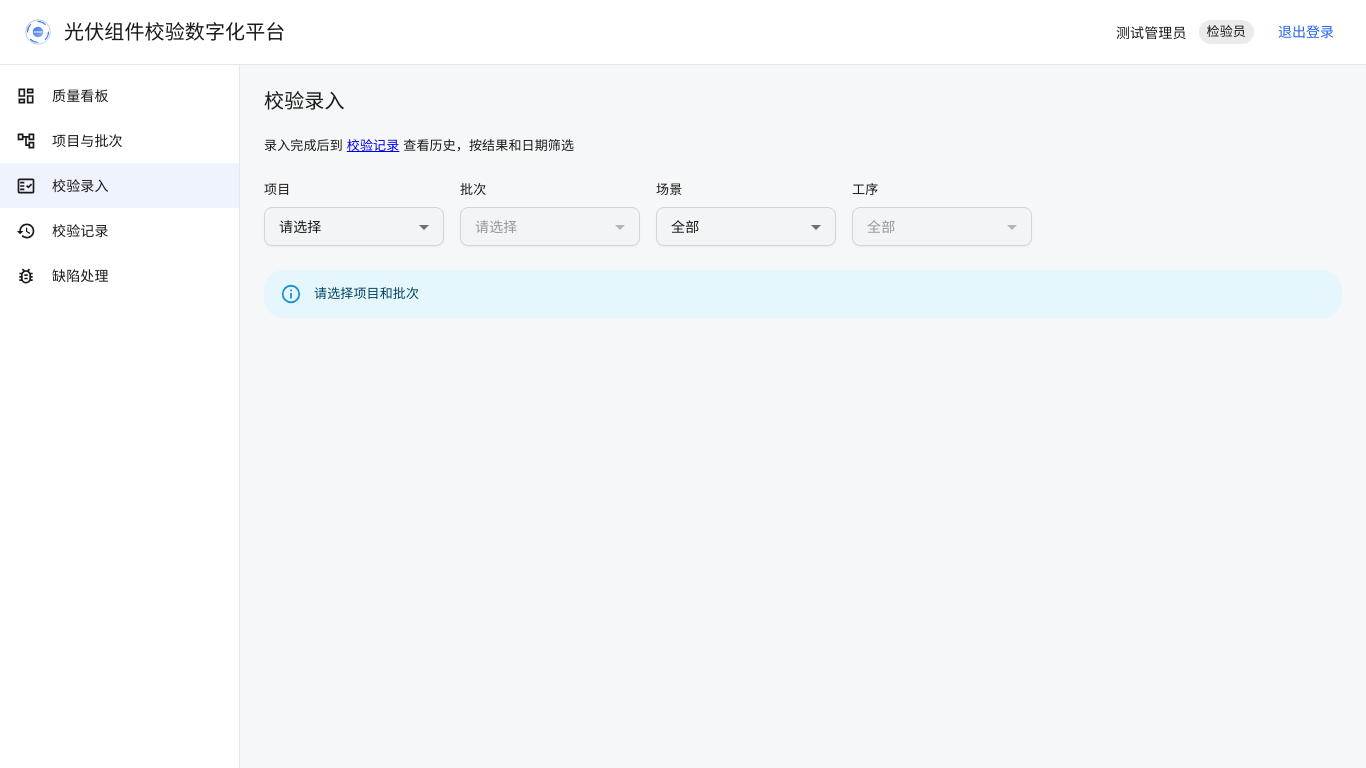
Test: 选择项目与批次后列出待检项与上次实测值
The image size is (1366, 768).
Click the dropdown named "项目" at (300, 226), box [279,217,321,236]
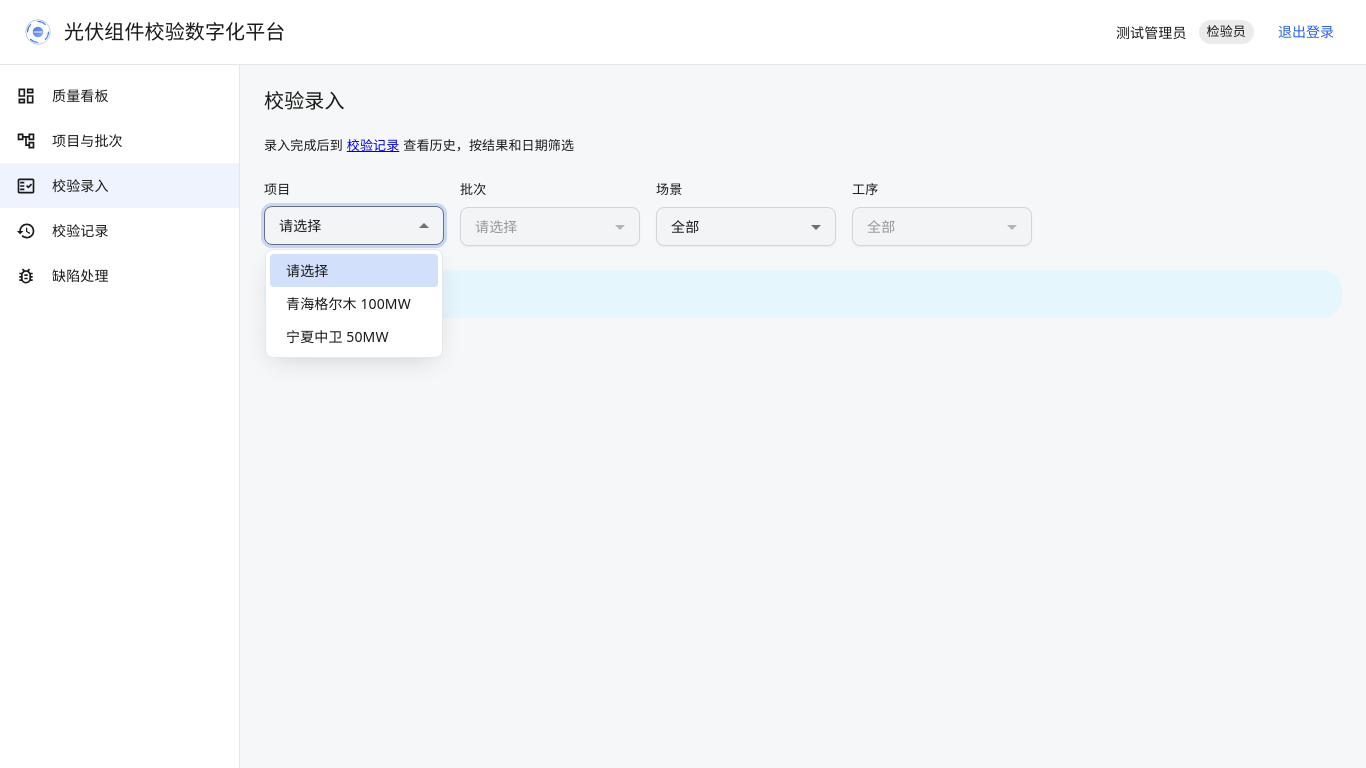
Click the option "青海格尔木 100MW" at (348, 304), box [286,294,411,313]
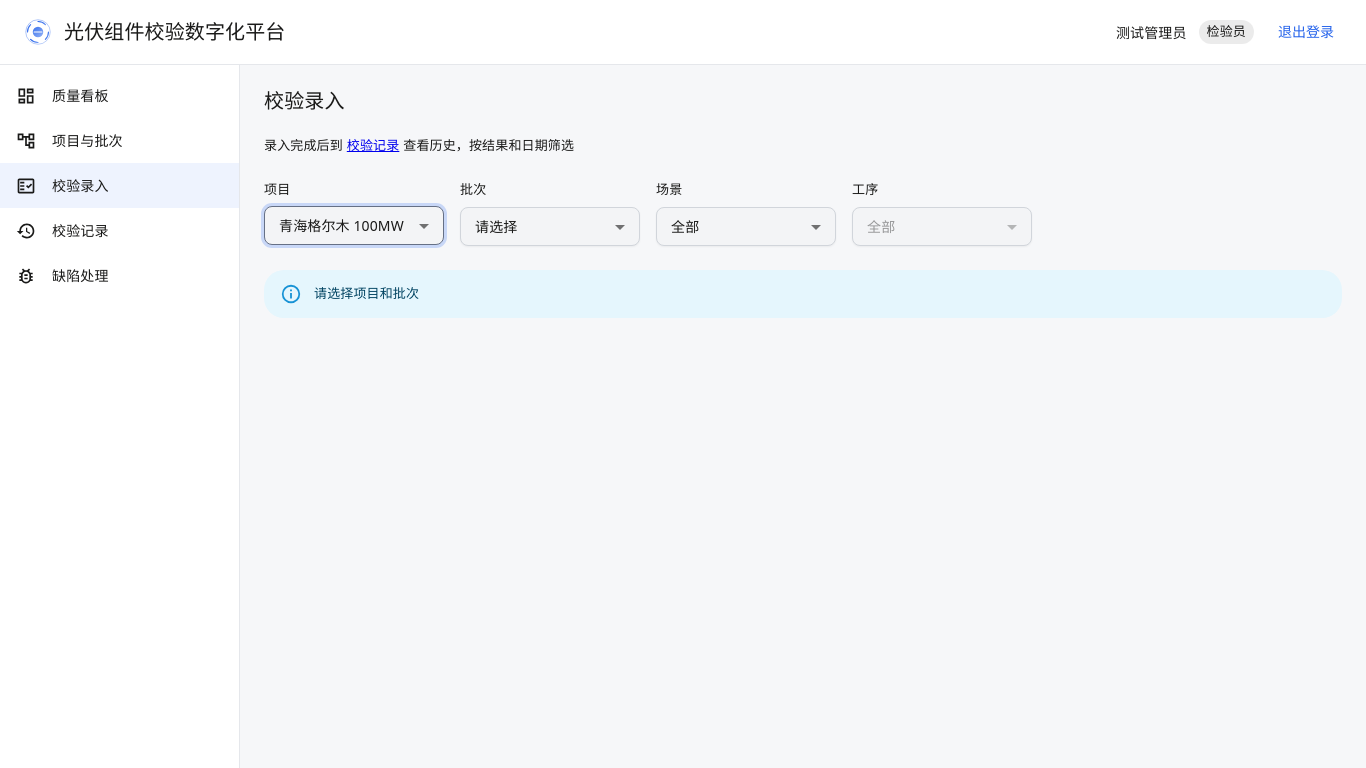
Click the dropdown named "批次" at (496, 226), box [475,217,517,236]
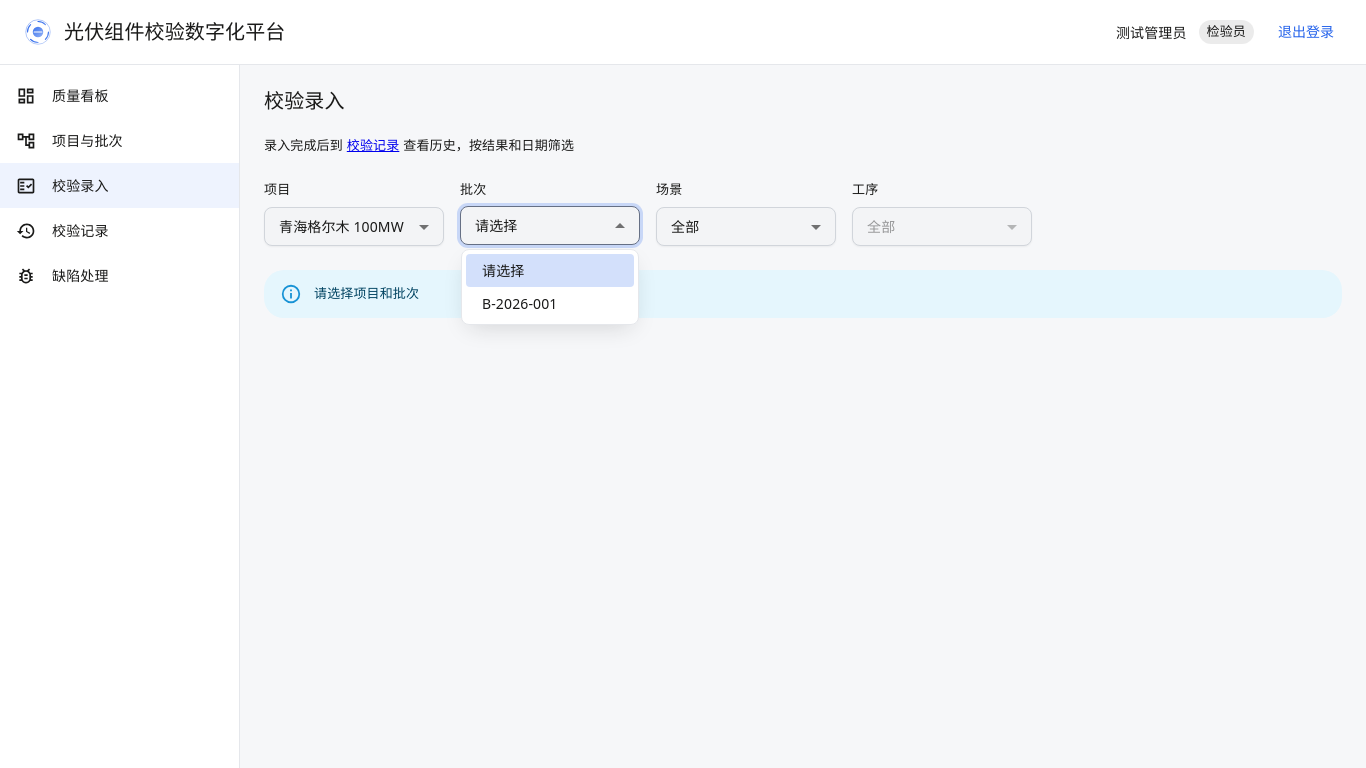
Click the option "B-2026-001" at (520, 304), box [482,294,558,313]
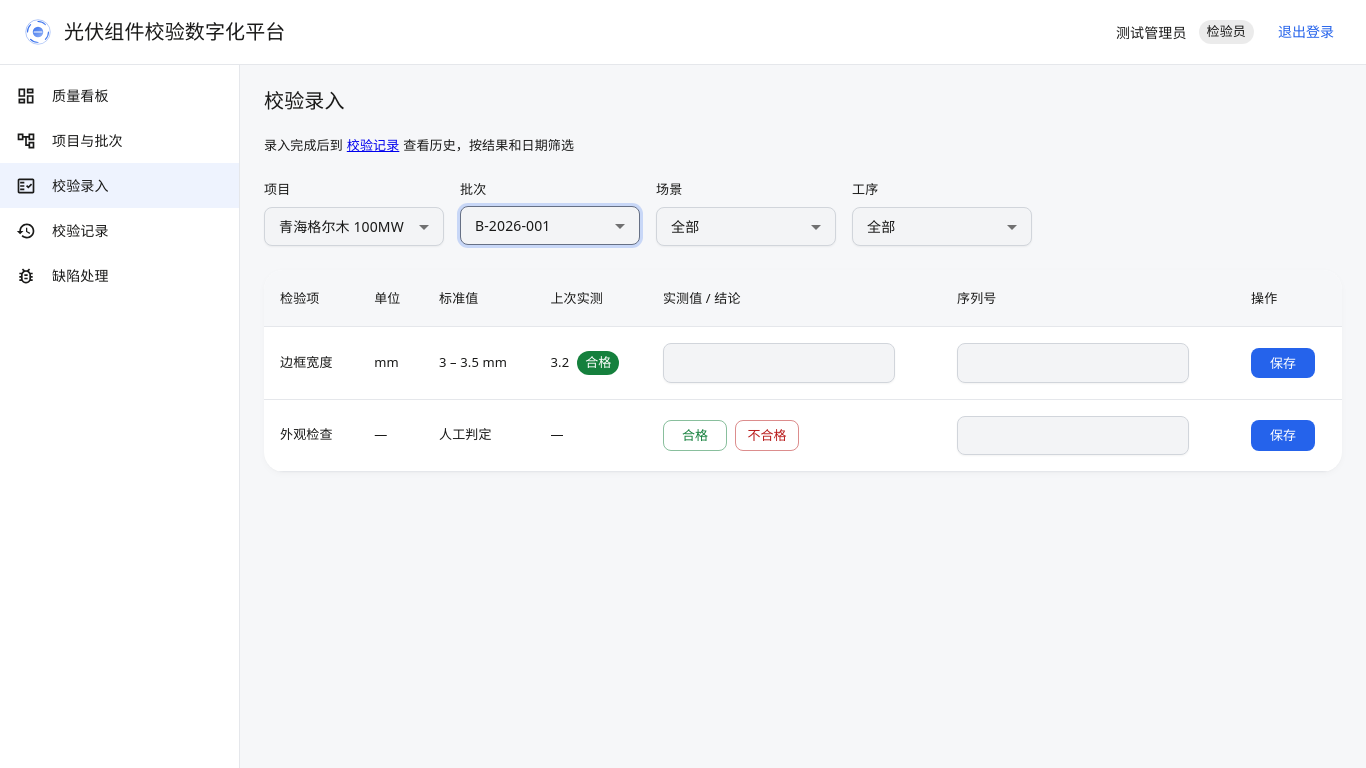
Expected: the text "3 – 3.5 mm" is shown, [423,327,534,399]
Expected: the text "3.2" is shown, [550,353,569,373]
Expected: the text "合格" is shown, [585,353,612,371]
